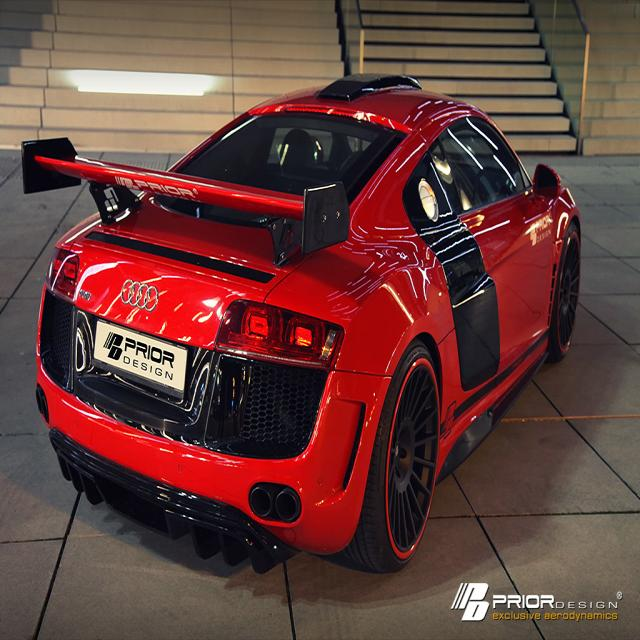car: (18, 65, 583, 585)
